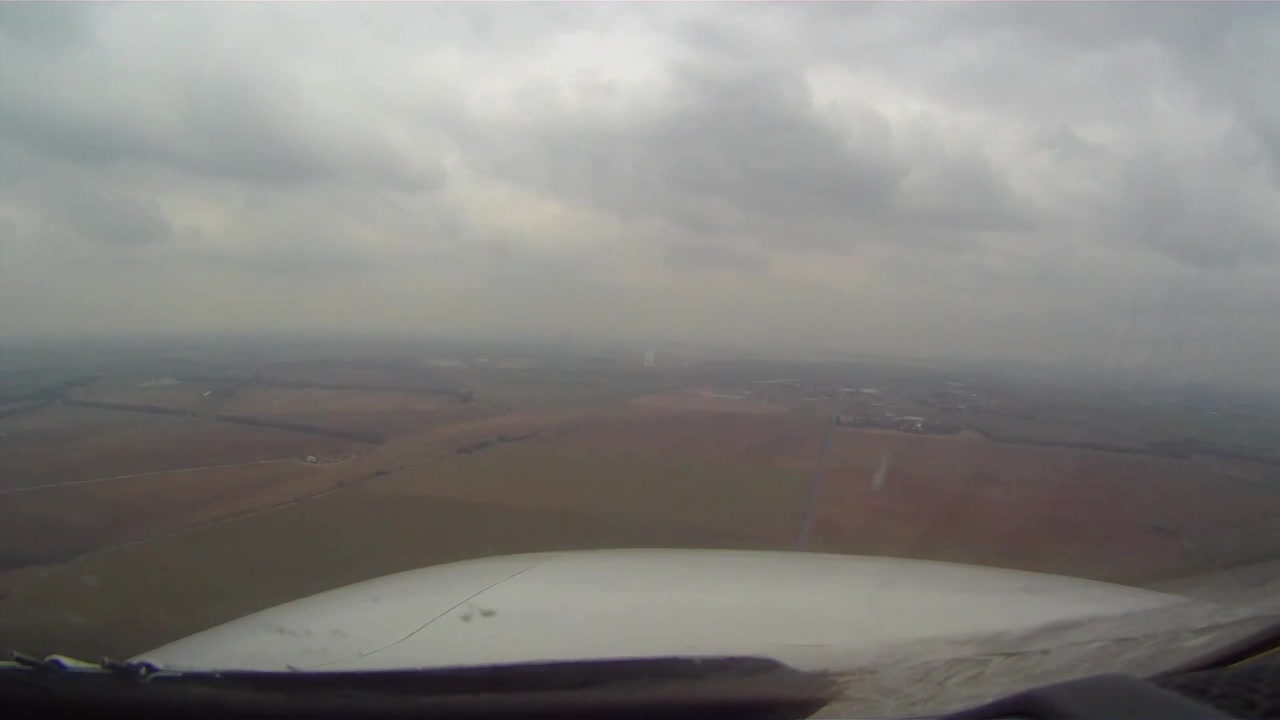runway: (643, 345, 656, 370)
